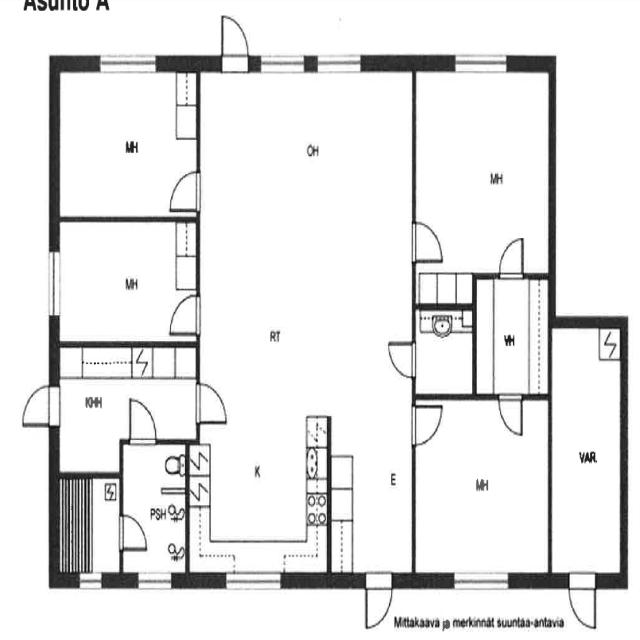door: (63, 347, 194, 455), (120, 440, 188, 576), (53, 469, 122, 580), (99, 382, 175, 456), (212, 10, 254, 81), (408, 215, 450, 266), (18, 381, 60, 432), (361, 570, 395, 631), (565, 572, 599, 632), (164, 165, 204, 215), (192, 377, 231, 428), (493, 229, 530, 282), (164, 289, 203, 337), (124, 395, 159, 447), (115, 508, 151, 556), (410, 399, 444, 446), (383, 337, 418, 381), (496, 391, 526, 440)
window: (92, 47, 164, 79), (447, 45, 514, 79), (217, 564, 290, 594), (446, 566, 516, 594), (42, 240, 64, 326), (312, 46, 369, 77), (254, 48, 312, 78), (131, 567, 178, 592), (74, 569, 108, 592)
zone: (194, 59, 418, 540), (412, 61, 552, 280), (413, 394, 550, 580), (54, 62, 199, 219), (54, 217, 201, 346), (549, 321, 623, 577), (52, 344, 196, 462), (473, 274, 552, 398), (122, 438, 188, 576), (52, 470, 122, 580), (413, 306, 475, 395)
